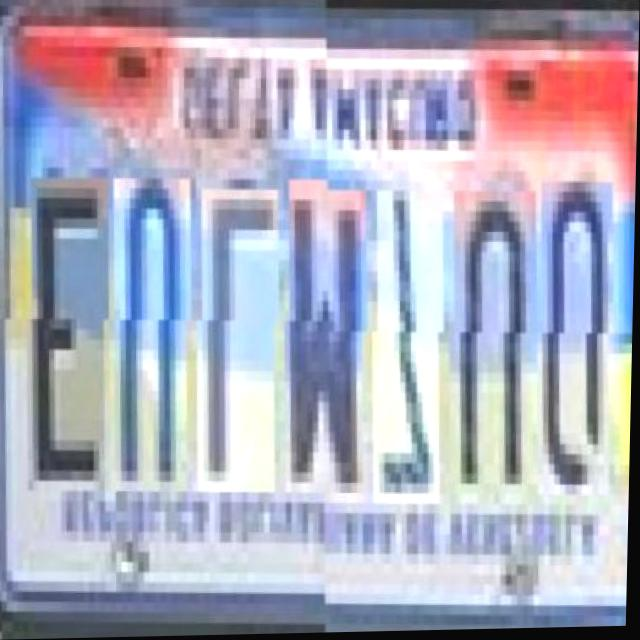0: (540, 169, 624, 485)
7: (376, 179, 453, 495)
e: (30, 176, 119, 493)
l: (201, 187, 290, 493)
m: (288, 178, 377, 494)
u: (453, 179, 547, 495), (113, 177, 202, 494)
